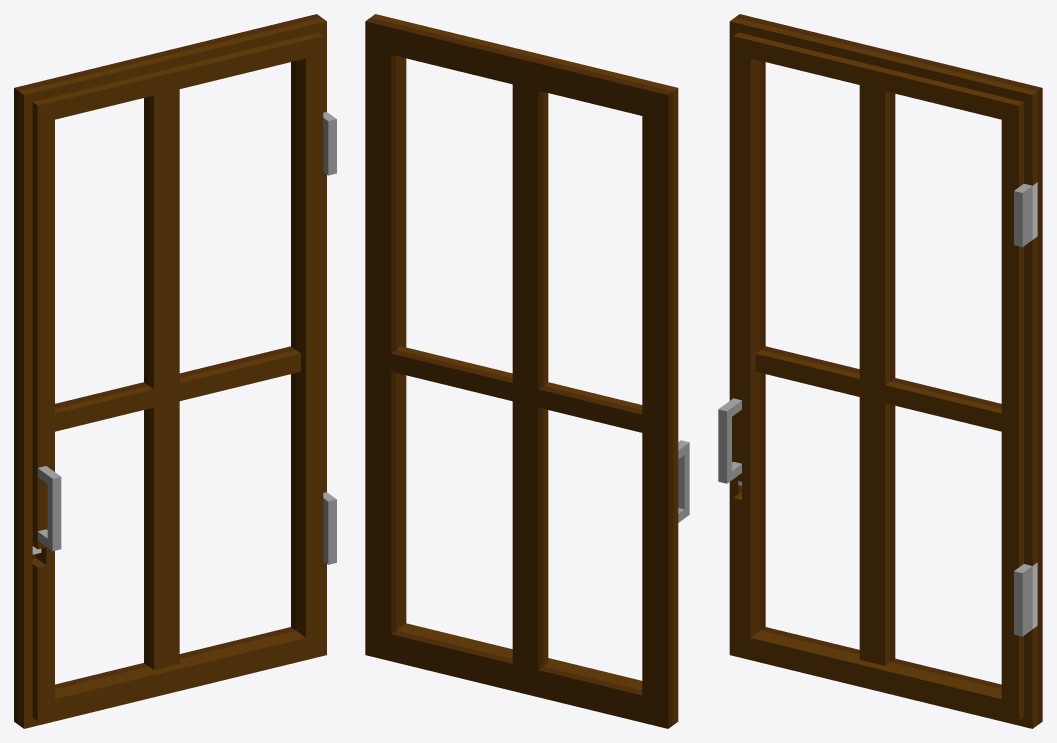
Rendered from fenetre_droite.obj.
The picture shows the model from 3 angles, left to right: view 1: azimuth 30°, elevation 25°; view 2: azimuth 150°, elevation 25°; view 3: azimuth 330°, elevation 25°; orthographic projection.
Bounding box in the file's own units: 35 × 70 × 6.
Materials: 1 (1 with a texture image).
